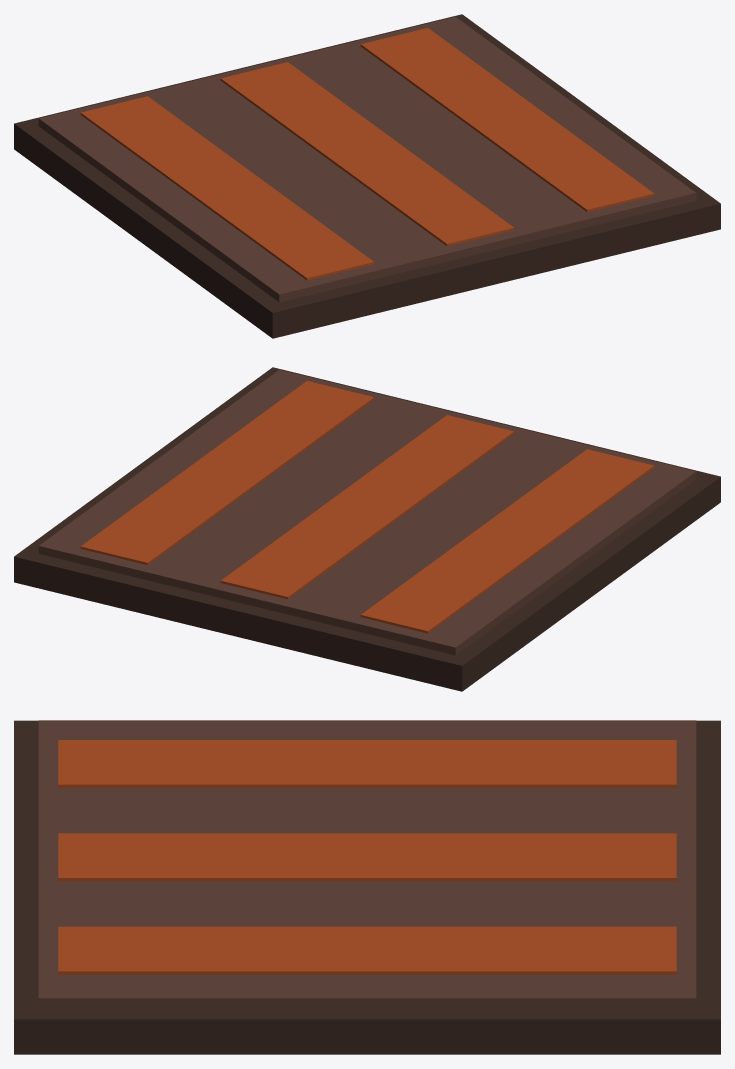
Rendered from k_pulse.glb.
3 renders of one model, top to bottom at view 1: azimuth 30°, elevation 25°; view 2: azimuth 150°, elevation 25°; view 3: azimuth 270°, elevation 25°, orthographic. The views are drawn at different scales.
Visible parts, largest first — view 1: piece; view 2: piece; view 3: piece.
Boxes of the visible parts, left/top/right/bottom form: piece: left=14, top=14, right=720, bottom=338; piece: left=14, top=367, right=720, bottom=691; piece: left=14, top=720, right=720, bottom=1054.
Size of the model in its own units: 1 by 0.0775 by 1.
